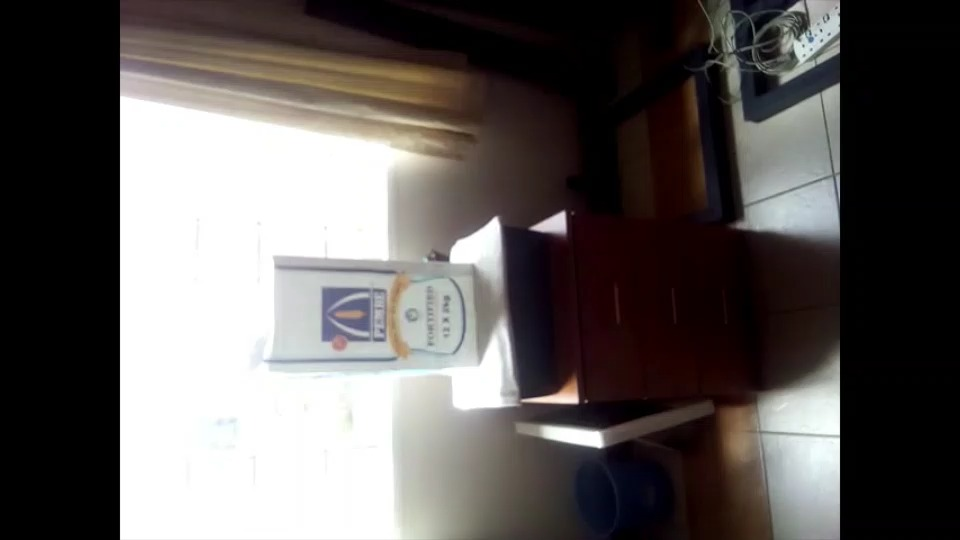wheat_flour_blue_label: (265, 254, 482, 365)
